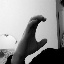c: (24, 14, 48, 53)
